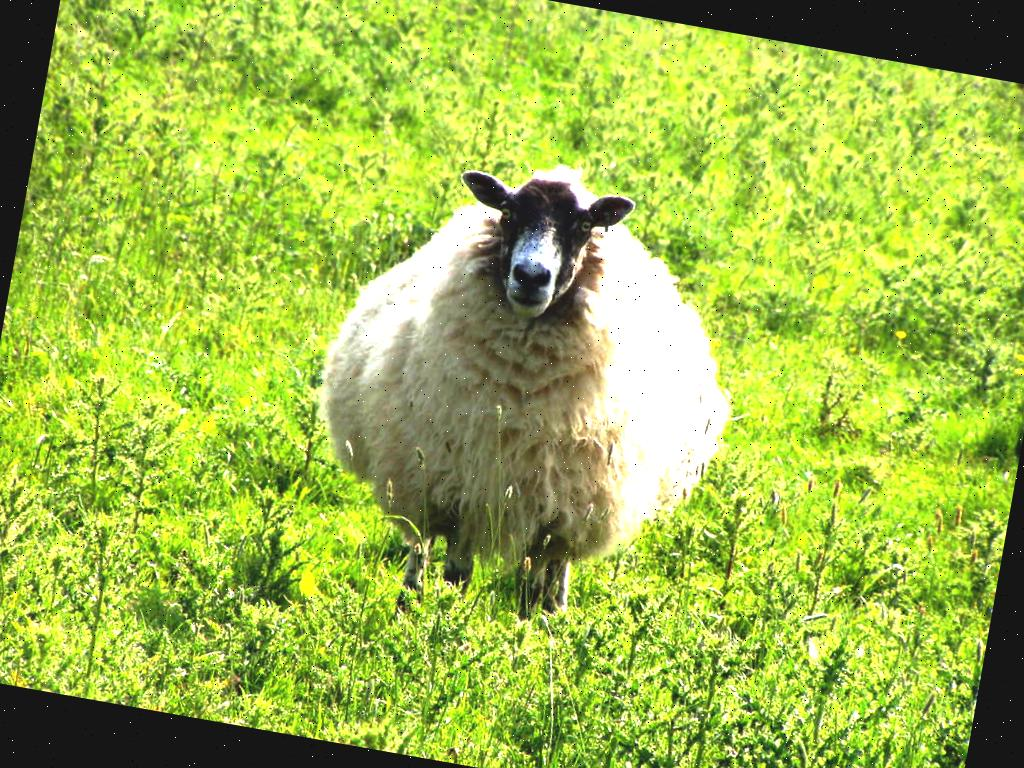Sheep: (284, 129, 764, 670)
